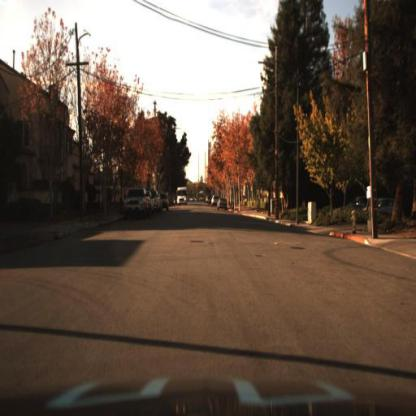car: (360, 192, 402, 221), (121, 187, 150, 222), (178, 186, 191, 209)
